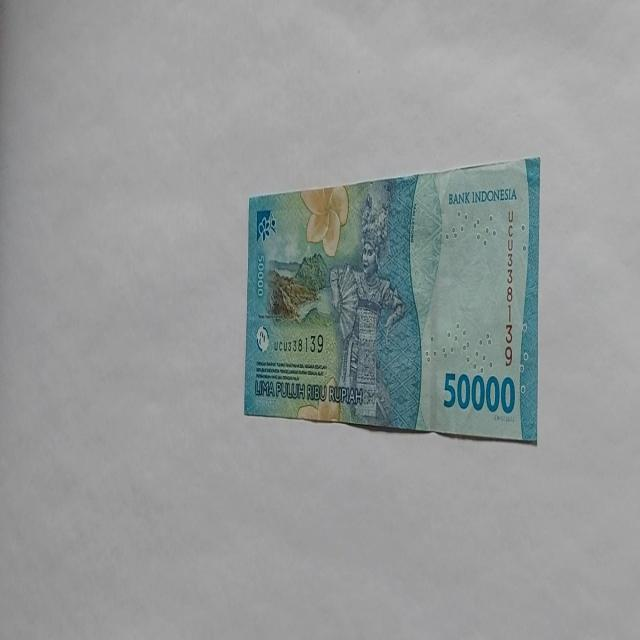lima puluh ribu rupiah: (243, 154, 541, 444)
